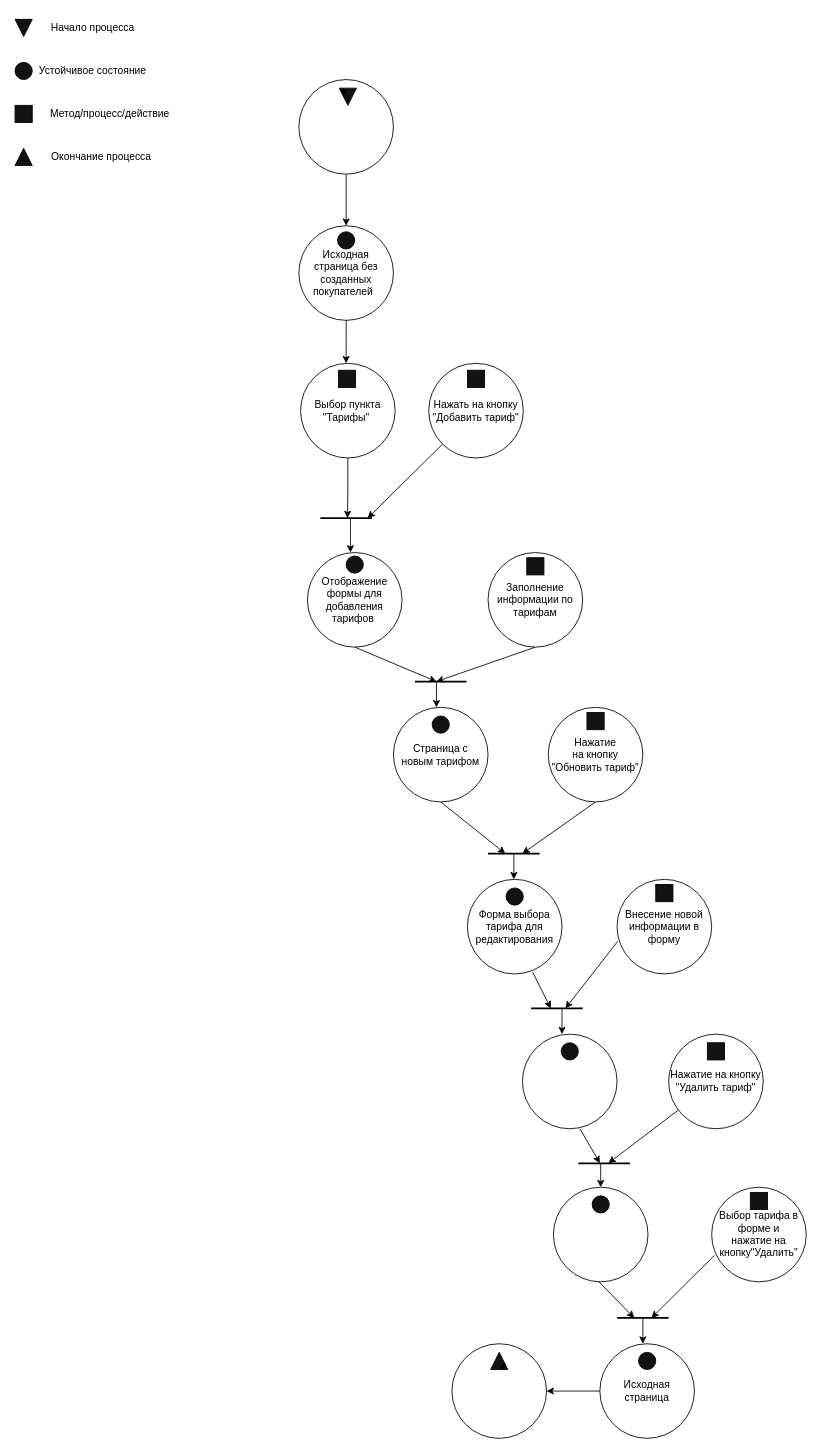
Image size: 821x1453. Some labels were removed from this diagram. Here are the shapes that lost their labels. From the top down, the box of each, then its label:
(298, 79, 393, 174): Исток (начало рассмотрения процесса)
(522, 1033, 617, 1129): Страница с измененным тарифом
(553, 1186, 648, 1282): Форма для выбора тарифа для удаления
(451, 1343, 547, 1438): Сток (завершение рассмотрения процесса)
